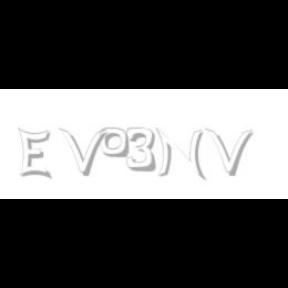3: (127, 128, 158, 172)
E: (18, 128, 50, 180)
N: (154, 128, 204, 180)
V: (59, 128, 107, 176), (205, 128, 253, 176)
o: (100, 128, 128, 158)
